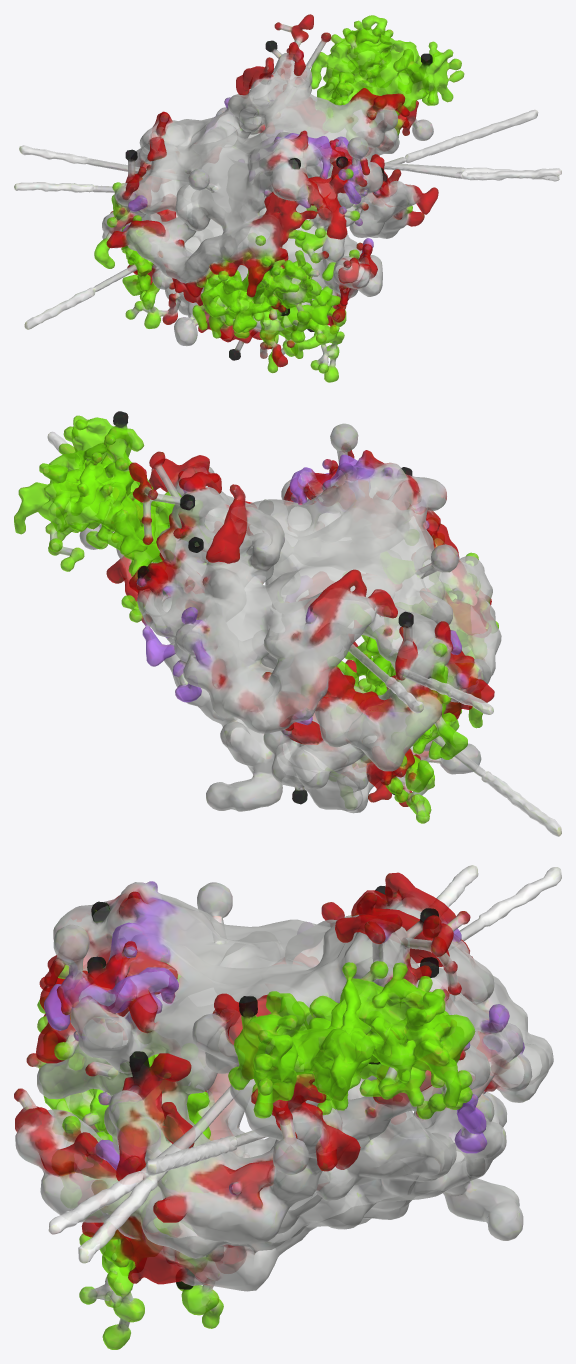
File: cas-a.glb
3 renders of one model, top to bottom at view 1: azimuth 30°, elevation 25°; view 2: azimuth 150°, elevation 25°; view 3: azimuth 270°, elevation 25°, orthographic. The views are drawn at different scales.
Visible parts, largest first — view 1: Cassiopeia A Supernova; view 2: Cassiopeia A Supernova; view 3: Cassiopeia A Supernova.
Part boxes in pixels (<box>): Cassiopeia A Supernova: <box>14,14,561,382</box>; Cassiopeia A Supernova: <box>14,411,561,836</box>; Cassiopeia A Supernova: <box>14,865,561,1349</box>.
Size of the model in its own units: 18.9 by 11.39 by 11.36.
1 material, 1 textured.
